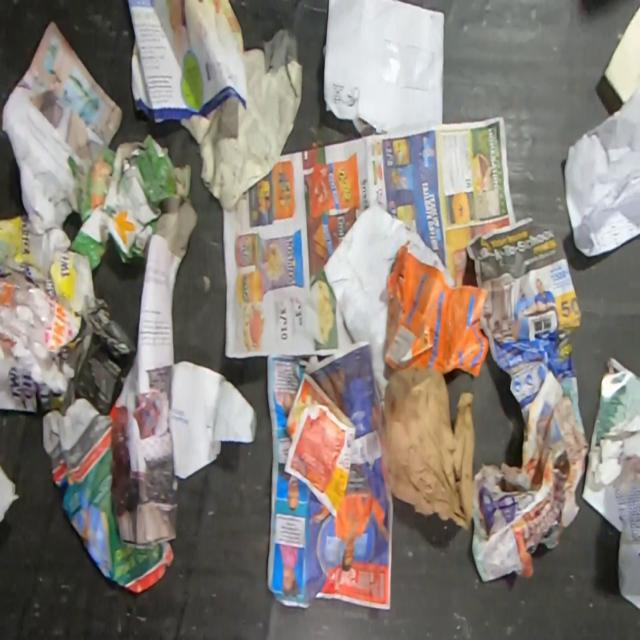metal: (120, 143, 150, 177)
